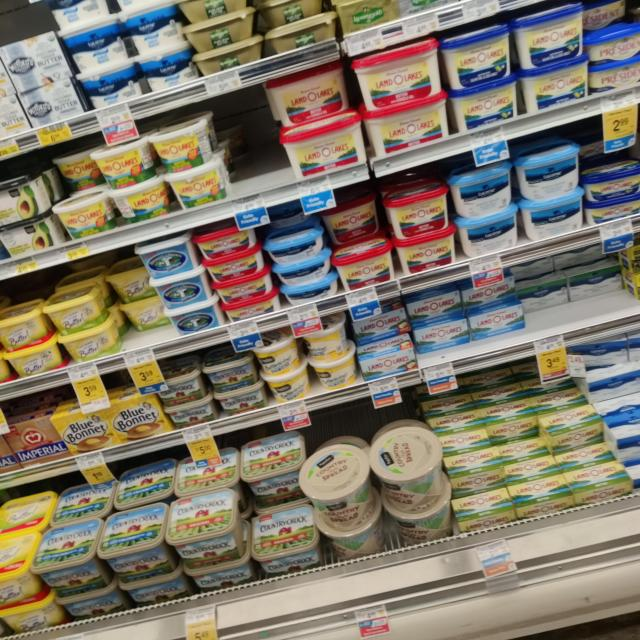Butter: (367, 427, 451, 518), (296, 436, 376, 531), (354, 36, 454, 110), (272, 107, 370, 181), (258, 58, 359, 128), (363, 87, 449, 158), (166, 496, 252, 565), (438, 20, 518, 94), (98, 506, 171, 586), (230, 432, 316, 495), (102, 383, 175, 454), (44, 392, 118, 461), (518, 53, 599, 116), (54, 6, 134, 69), (506, 8, 597, 62), (517, 131, 587, 200), (328, 232, 401, 298), (441, 72, 522, 130), (447, 157, 516, 223), (50, 316, 136, 368), (455, 198, 527, 260), (165, 154, 240, 212), (377, 186, 460, 238), (148, 114, 218, 175), (519, 189, 599, 242), (48, 185, 121, 242), (118, 5, 196, 58), (102, 168, 167, 228), (91, 130, 161, 185), (356, 328, 424, 383), (44, 278, 114, 329), (194, 217, 264, 266), (300, 307, 360, 362), (466, 291, 534, 339), (146, 268, 217, 312), (130, 234, 200, 278), (250, 323, 307, 377), (198, 352, 266, 396), (412, 310, 474, 358), (150, 369, 215, 410), (265, 220, 323, 264), (162, 293, 221, 336)
